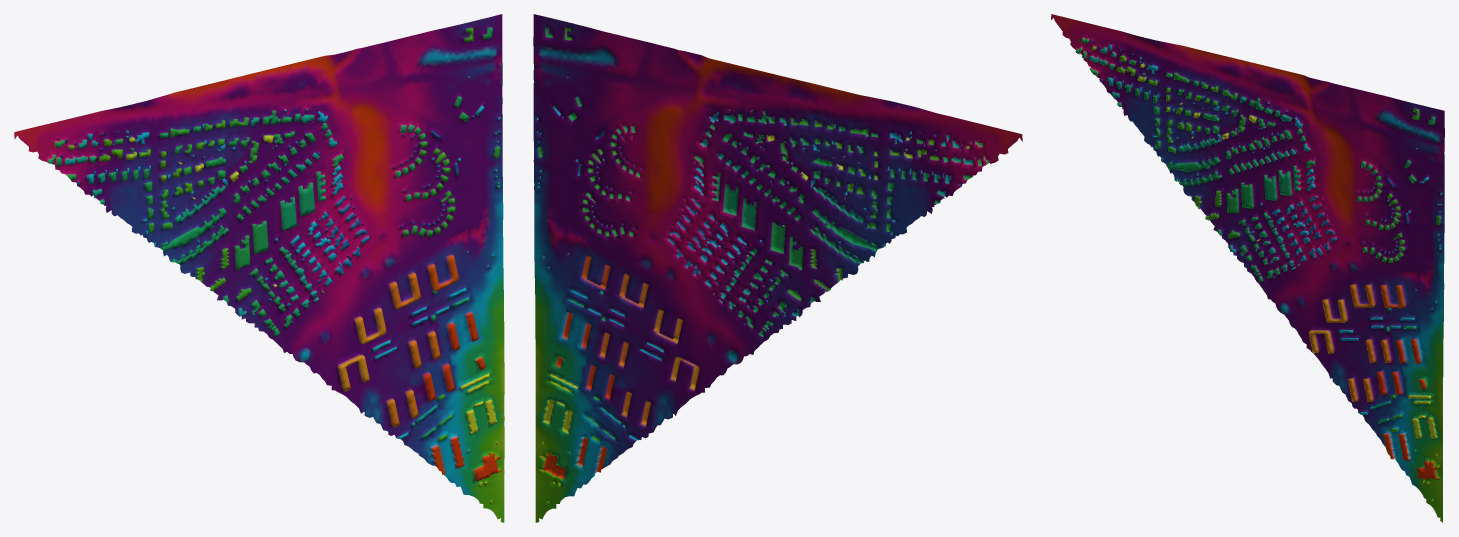
File: CitySurfaceB.obj
3 renders of one model, left to right at view 1: azimuth 30°, elevation 25°; view 2: azimuth 150°, elevation 25°; view 3: azimuth 330°, elevation 25°, orthographic. The views are drawn at different scales.
Bounding box in the file's own units: 1000 × 996 × 17.61.
